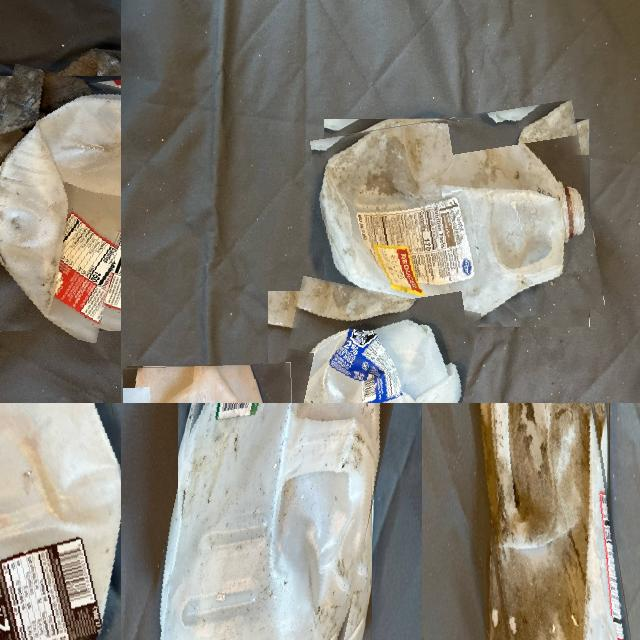milk-jug: (316, 108, 598, 336), (158, 403, 392, 640), (465, 403, 630, 640), (0, 69, 121, 337), (0, 403, 121, 640), (253, 284, 465, 403)
